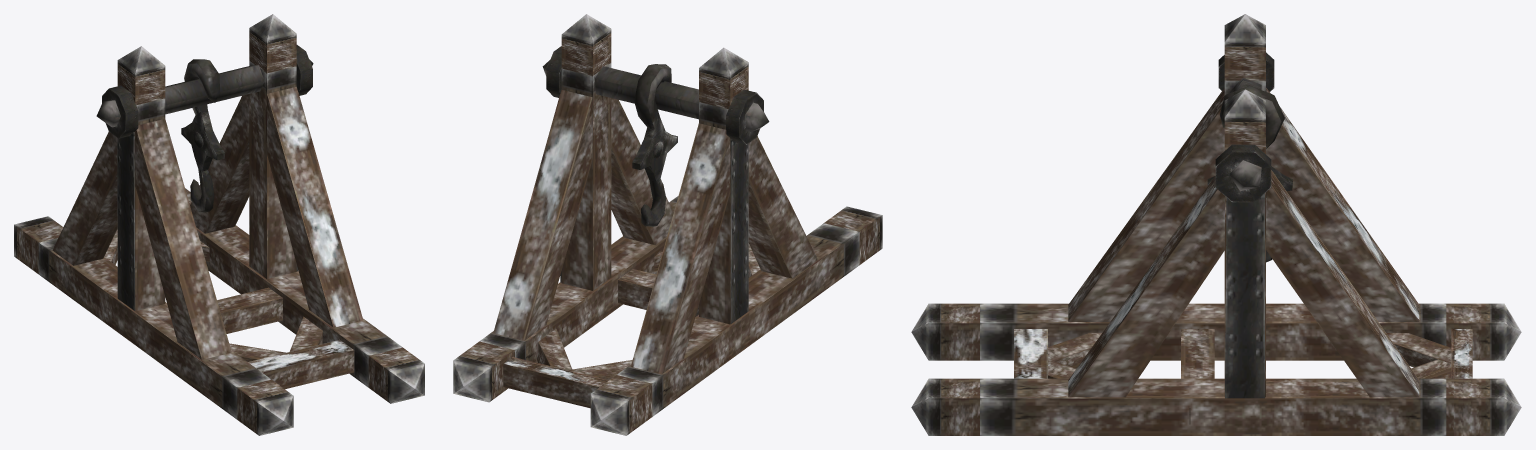
Rendered from environment_common_nuche_001_a.FBX.
3 renders of one model, left to right at view 1: azimuth 30°, elevation 25°; view 2: azimuth 150°, elevation 25°; view 3: azimuth 270°, elevation 25°, orthographic. The views are drawn at different scales.
Parts seen in each view (by area): view 1: environment_common_nuche_001_a; view 2: environment_common_nuche_001_a; view 3: environment_common_nuche_001_a.
Part boxes in pixels (x1,y1,x2,y2): environment_common_nuche_001_a: (14,14,424,435); environment_common_nuche_001_a: (453,14,882,435); environment_common_nuche_001_a: (911,14,1521,435).
Bounding box in the file's own units: 88.84 × 112 × 184.
